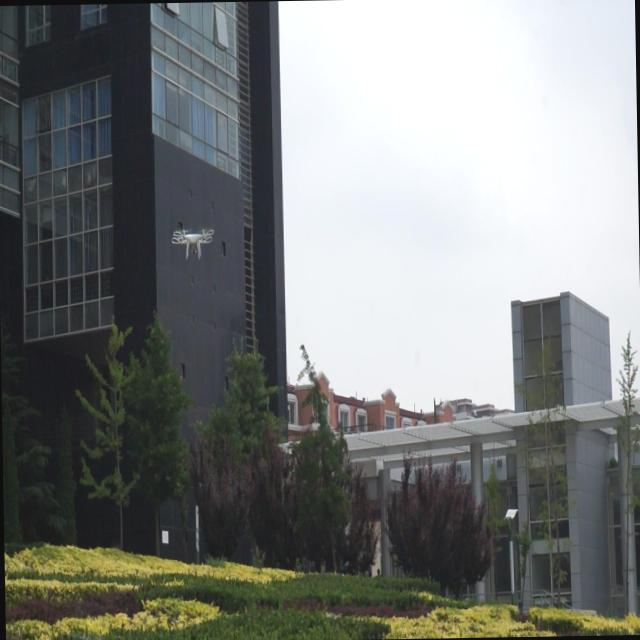drone: (170, 222, 216, 262)
